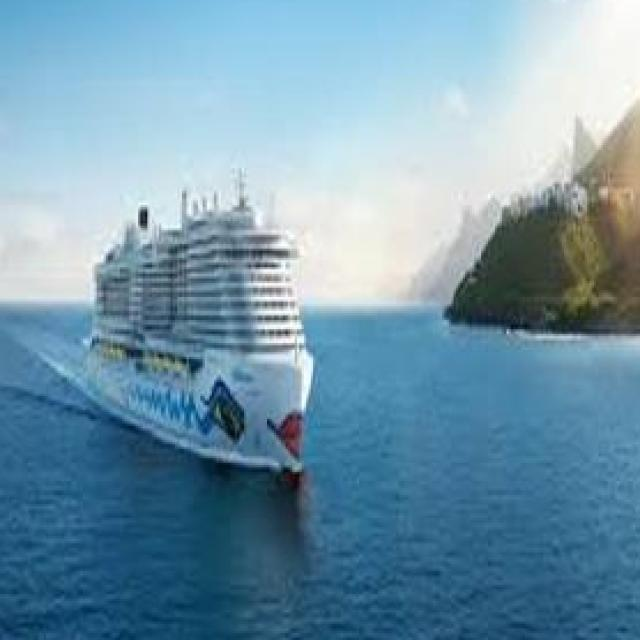passenger ship: (77, 179, 320, 476)
